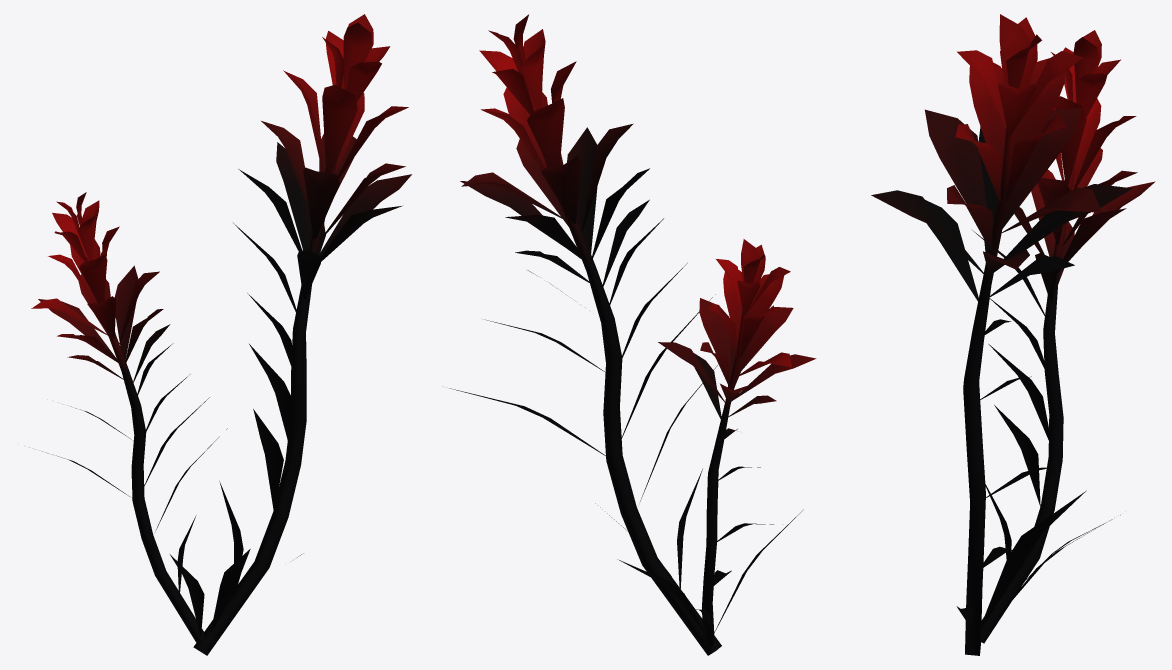
File: SM_Riverplant.FBX
3 renders of one model, left to right at view 1: azimuth 30°, elevation 25°; view 2: azimuth 150°, elevation 25°; view 3: azimuth 270°, elevation 25°, orthographic. The views are drawn at different scales.
Parts seen in each view (by area): view 1: s_plant_15_LOD0; view 2: s_plant_15_LOD0; view 3: s_plant_15_LOD0.
Boxes of the visible parts, x1,y1,x2,y2 form: s_plant_15_LOD0: (31, 14, 411, 655); s_plant_15_LOD0: (449, 14, 816, 655); s_plant_15_LOD0: (871, 14, 1155, 655).
Bounding box in the file's own units: 44.85 × 26.81 × 70.45.
